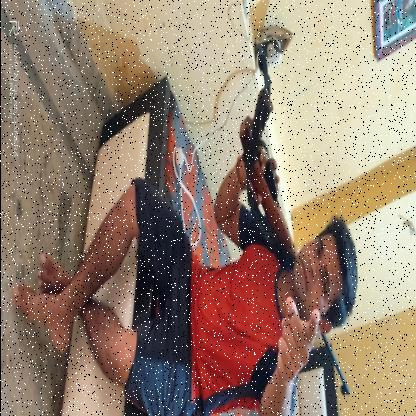rifle: (236, 85, 350, 399)
